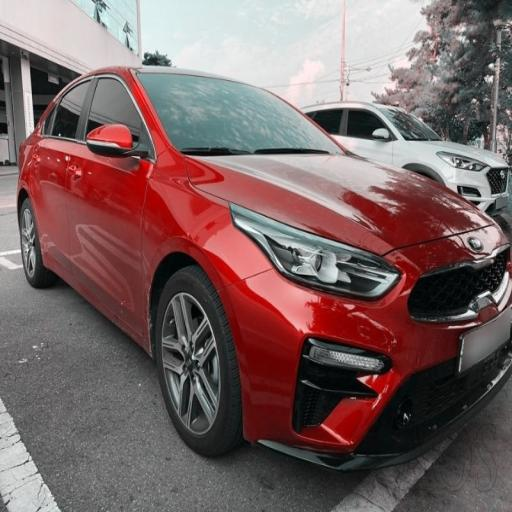scratch: (26, 214, 69, 276)
